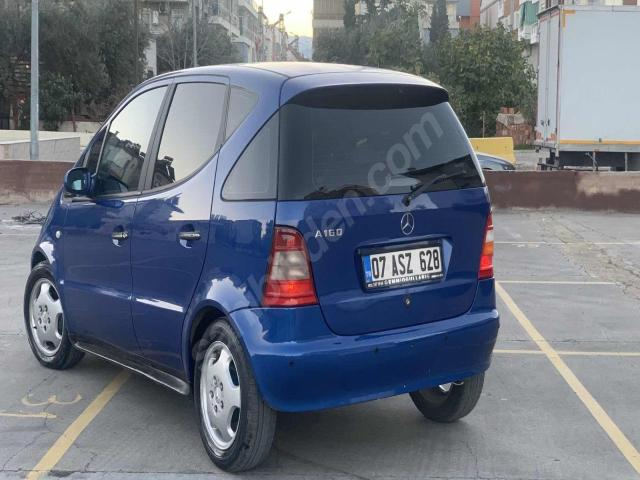plaka: (361, 242, 444, 289)
